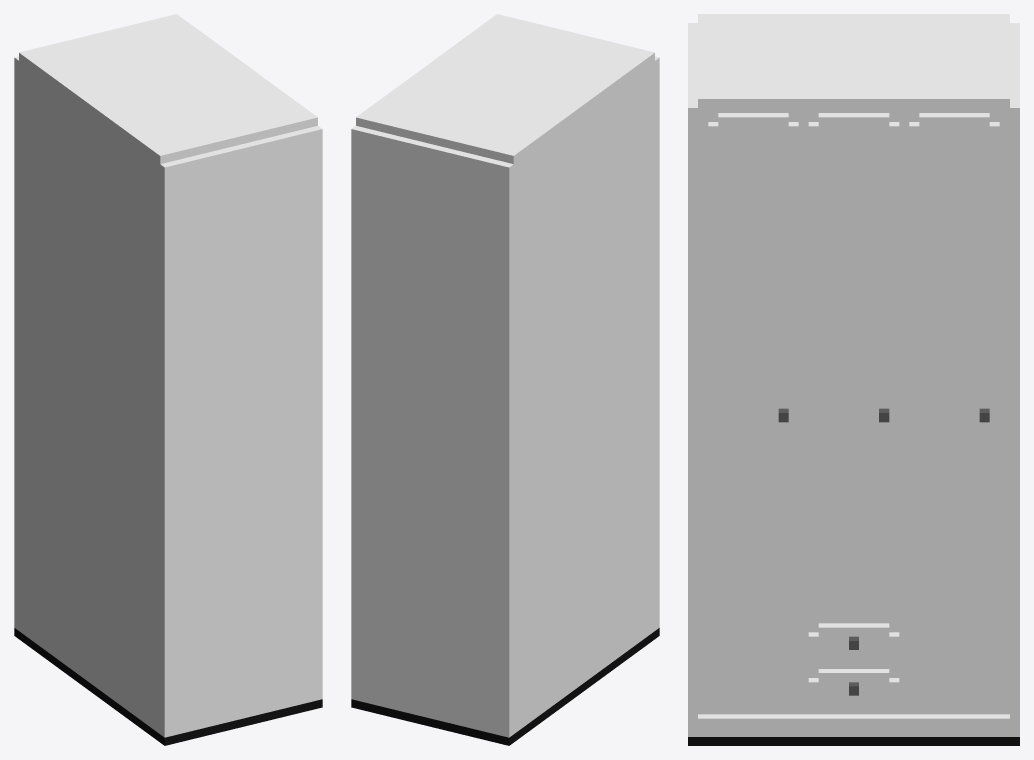
File: SHKAF.obj
3 views of the same model, side by side, from view 1: azimuth 30°, elevation 25°; view 2: azimuth 150°, elevation 25°; view 3: azimuth 270°, elevation 25° (orthographic). The views are drawn at different scales.
Bounding box in the file's own units: 2.1 × 7.1 × 3.3.
Materials: 1 (1 with a texture image).
